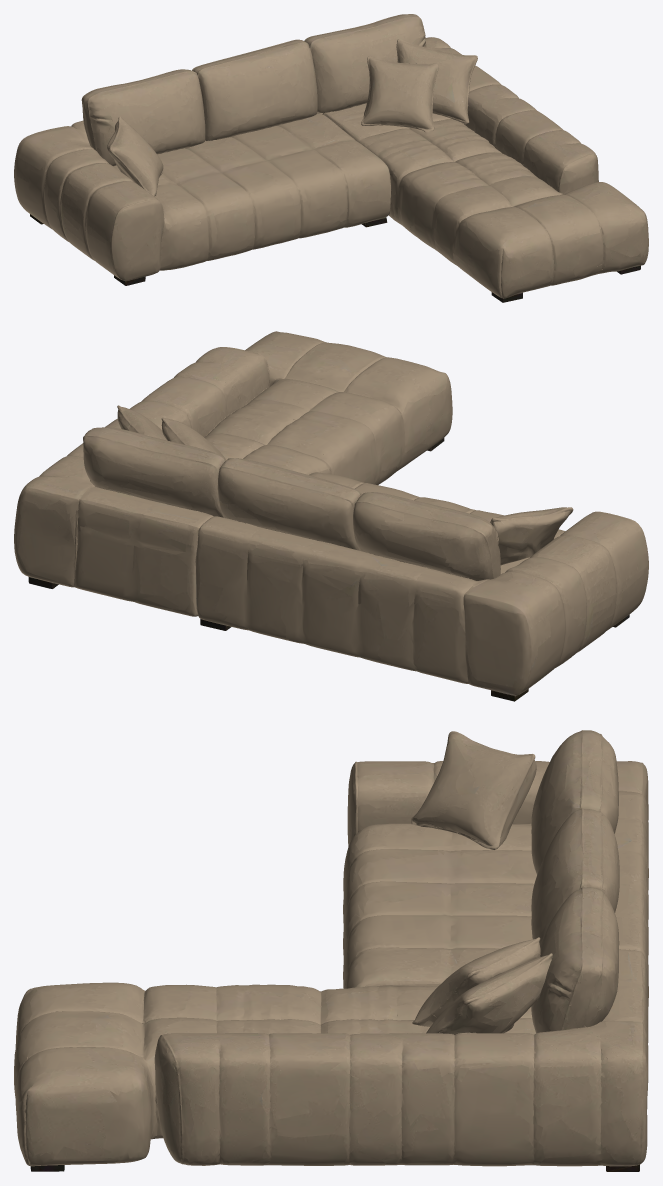
File: caravanafurniture-com-products-right-facing-chaise-sectional-a7a3a3.glb
3 views of the same model, one above another, from view 1: azimuth 30°, elevation 25°; view 2: azimuth 150°, elevation 25°; view 3: azimuth 270°, elevation 25° (orthographic). The views are drawn at different scales.
Parts seen in each view (by area): view 1: Mesh_0; view 2: Mesh_0; view 3: Mesh_0.
Part boxes in pixels (bbox=[...]): Mesh_0: bbox=[14, 14, 648, 302]; Mesh_0: bbox=[14, 331, 648, 701]; Mesh_0: bbox=[14, 730, 648, 1171].
Bounding box in the file's own units: 1.9 × 0.5338 × 1.64.
Materials: 1 (1 with a texture image).
